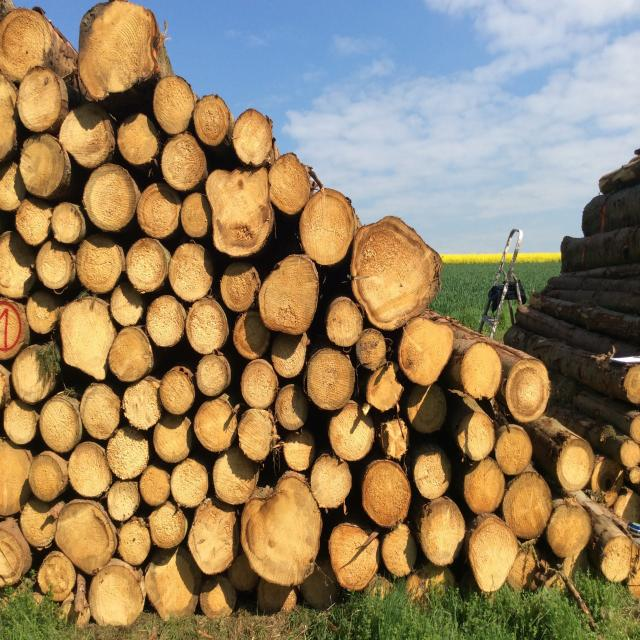wood-log: (350, 217, 436, 330), (244, 476, 324, 588), (76, 3, 154, 100), (207, 166, 274, 258), (260, 256, 321, 334), (59, 296, 117, 378), (298, 188, 354, 265), (54, 502, 113, 575), (467, 519, 518, 596), (148, 550, 204, 619), (59, 105, 117, 171), (86, 165, 142, 233), (400, 320, 456, 388), (86, 558, 142, 624), (189, 500, 237, 576), (0, 10, 51, 81), (358, 461, 409, 530), (17, 137, 69, 201), (502, 474, 552, 540), (419, 500, 466, 570), (304, 349, 356, 411), (14, 71, 63, 134), (504, 356, 550, 421), (267, 156, 316, 217), (75, 234, 124, 294), (9, 344, 59, 402), (329, 401, 377, 461), (167, 243, 213, 303), (160, 135, 206, 193), (547, 502, 593, 560), (212, 448, 258, 506), (151, 75, 196, 134), (108, 325, 154, 382), (67, 443, 112, 501), (465, 458, 508, 516), (186, 296, 229, 354), (39, 396, 83, 452), (308, 454, 352, 510), (0, 436, 31, 515), (0, 233, 36, 300), (80, 384, 122, 441), (231, 110, 273, 166), (464, 342, 506, 398), (127, 239, 169, 295), (136, 185, 180, 238), (194, 398, 237, 452), (118, 114, 162, 166), (108, 429, 152, 480), (0, 520, 32, 589), (404, 386, 447, 437), (235, 408, 277, 460), (146, 296, 187, 348), (556, 437, 594, 492), (300, 561, 340, 612), (381, 525, 419, 578), (220, 262, 259, 313), (122, 381, 161, 432), (232, 309, 269, 362), (240, 360, 279, 410), (328, 297, 366, 348), (494, 425, 532, 476), (193, 94, 230, 146), (170, 458, 209, 507), (160, 366, 198, 415), (368, 363, 406, 412), (412, 454, 451, 501), (37, 242, 74, 291), (150, 502, 189, 548), (152, 414, 189, 462), (30, 451, 66, 500), (0, 74, 20, 162), (270, 333, 309, 378), (43, 550, 78, 600), (15, 198, 53, 244), (0, 299, 27, 362), (272, 386, 308, 433), (119, 516, 153, 564), (604, 537, 638, 584), (0, 402, 37, 445), (464, 411, 495, 460), (108, 282, 144, 324), (198, 352, 232, 396), (50, 202, 85, 244), (354, 328, 388, 370), (182, 192, 213, 238), (108, 480, 142, 521), (140, 467, 172, 507), (227, 555, 260, 592), (259, 581, 293, 615), (281, 436, 313, 472), (0, 168, 27, 210), (626, 365, 640, 405), (631, 416, 640, 442)
